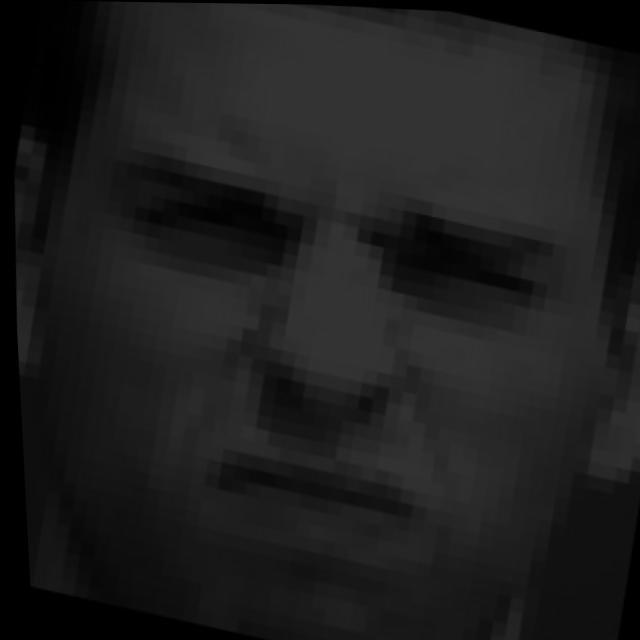Disgust: (46, 96, 593, 627)
